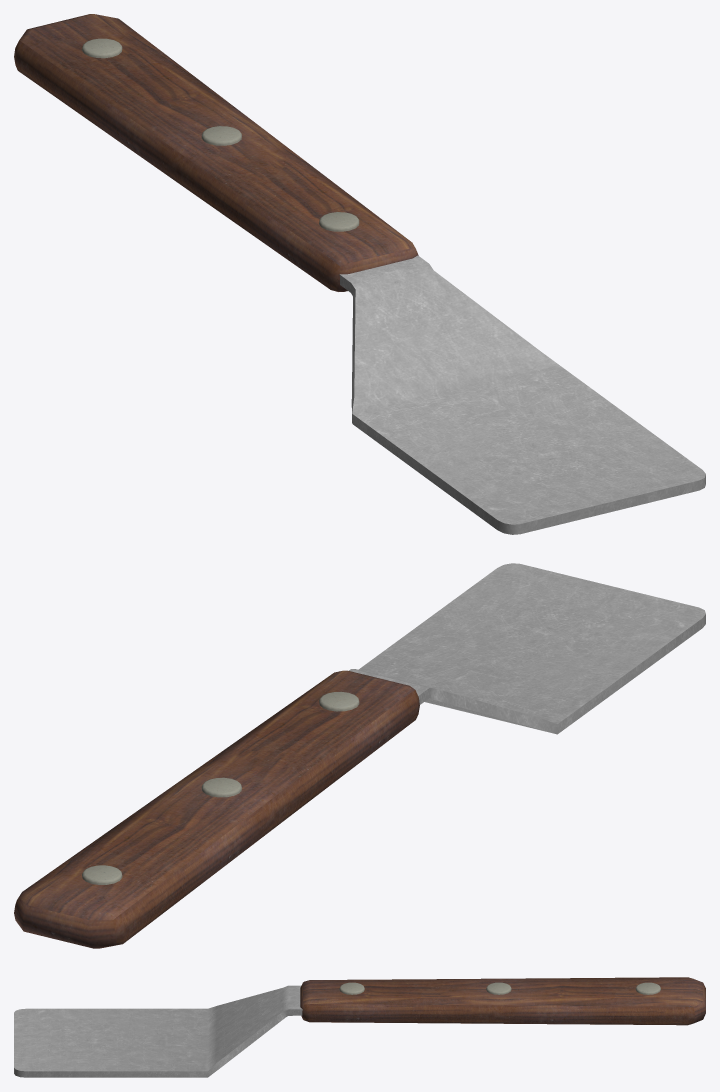
File: spatula_2.glb
3 renders of one model, top to bottom at view 1: azimuth 30°, elevation 25°; view 2: azimuth 150°, elevation 25°; view 3: azimuth 270°, elevation 25°, orthographic. The views are drawn at different scales.
Visible parts, largest first — view 1: bc5b0e14e5454d1db4bfc5f8027bde6f; view 2: bc5b0e14e5454d1db4bfc5f8027bde6f; view 3: bc5b0e14e5454d1db4bfc5f8027bde6f.
Part boxes in pixels (x1,y1,x2,y2): bc5b0e14e5454d1db4bfc5f8027bde6f: (14,14,705,534); bc5b0e14e5454d1db4bfc5f8027bde6f: (14,563,705,948); bc5b0e14e5454d1db4bfc5f8027bde6f: (14,977,705,1077).
Size of the model in its own units: 0.214 by 0.0944 by 1.
Materials: 1 (1 with a texture image).
